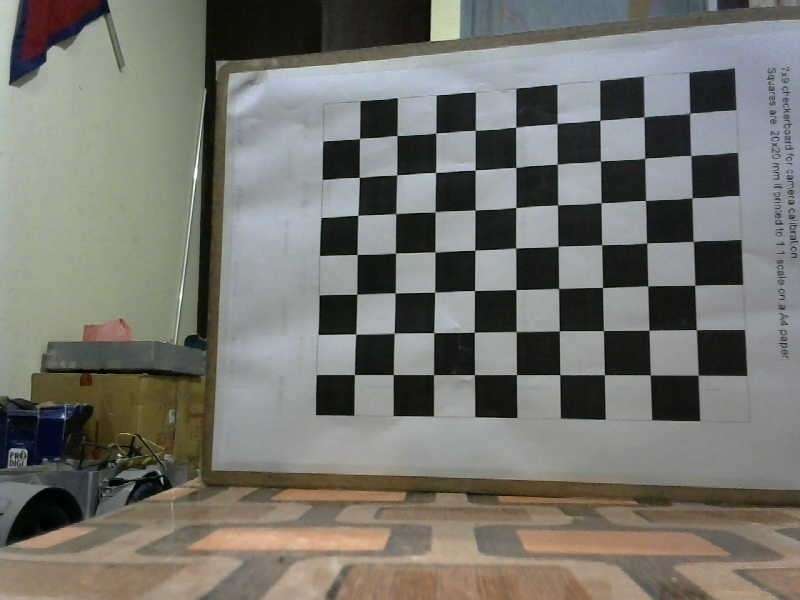block: (217, 65, 795, 492)
